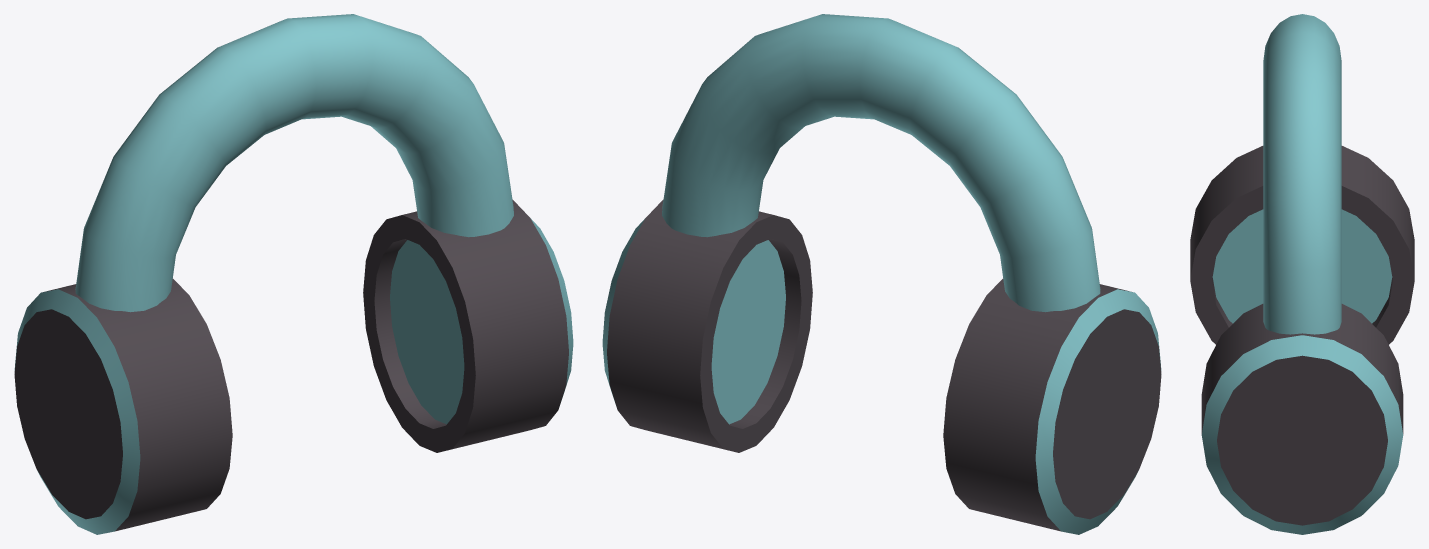
File: Headphones.fbx
The picture shows the model from 3 angles, left to right: view 1: azimuth 30°, elevation 25°; view 2: azimuth 150°, elevation 25°; view 3: azimuth 270°, elevation 25°; orthographic projection. The views are drawn at different scales.
Parts seen in each view (by area): view 1: polySurface2.001; view 2: polySurface2.001; view 3: polySurface2.001.
Boxes of the visible parts, box(x1,y1,x2,y2) form: polySurface2.001: box(14, 14, 573, 534); polySurface2.001: box(602, 14, 1161, 534); polySurface2.001: box(1190, 14, 1414, 534).
Size of the model in its own units: 105 by 100 by 50.
